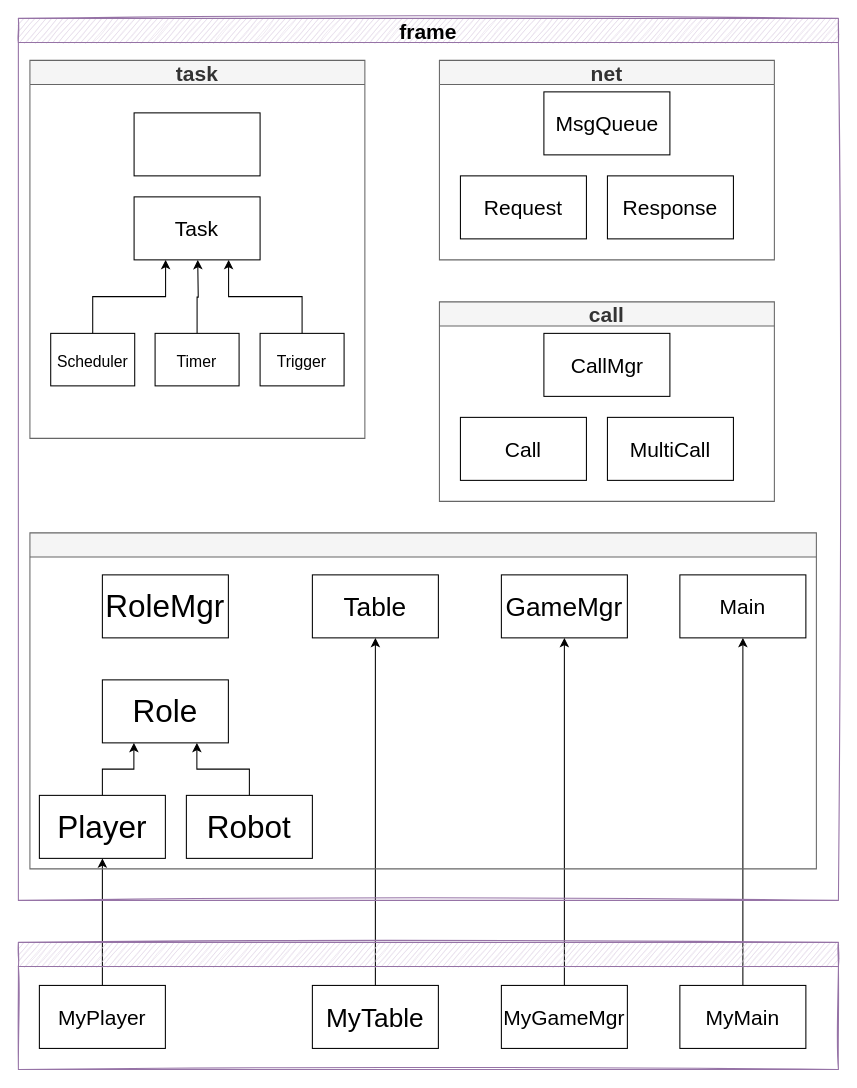
The diagram is 857 pixels wide and 1088 high, and some of its shapes have lost their labels. Here are the shapes that lost their labels. From the top down, the centre of each, then its label:
At point (196, 144): "TaskMgr".
At point (422, 700): "game".
At point (427, 1005): "mygame".
